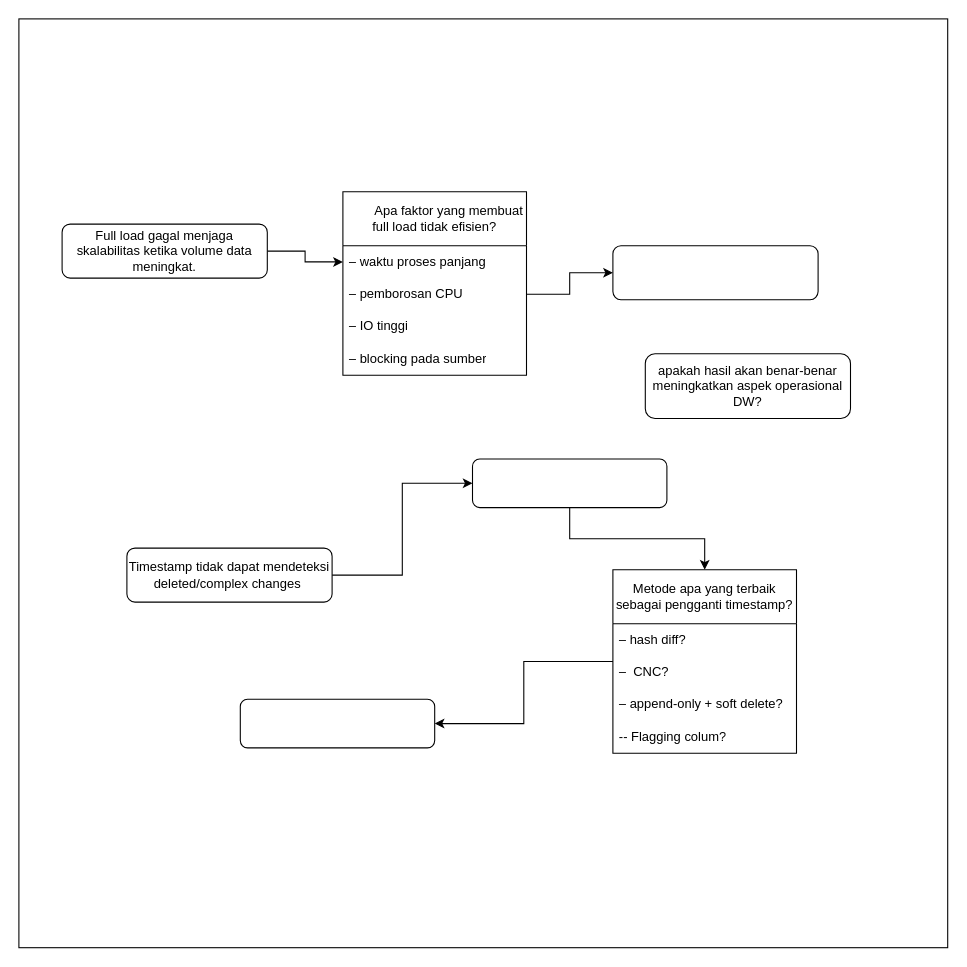
Image size: 967x967. Some labels were removed from this diagram. Each missing label, with the box of its shape:
menyebabkan inkonsistensi.: (471, 458, 667, 508)
RQ1: Seberapa jauh incremental load bisa mengatasi masalah efisiensi itu?: (612, 245, 818, 300)
uji beberapa mekanisme change detection.: (239, 698, 435, 748)
